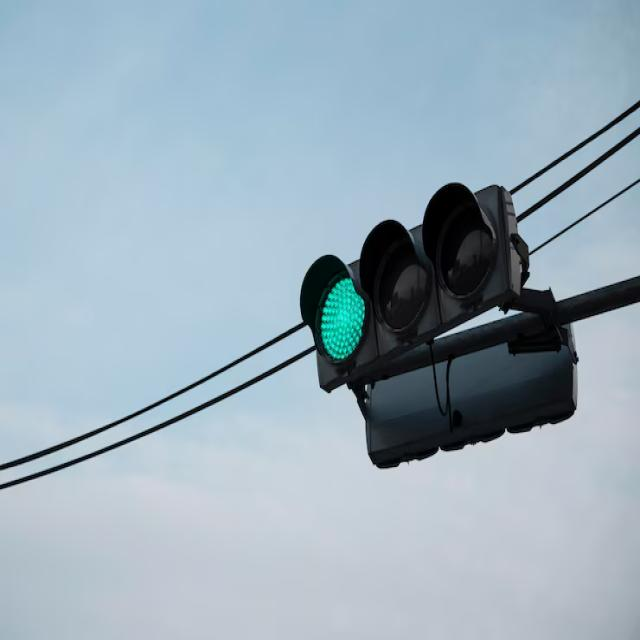Green_light: (280, 177, 528, 369)
